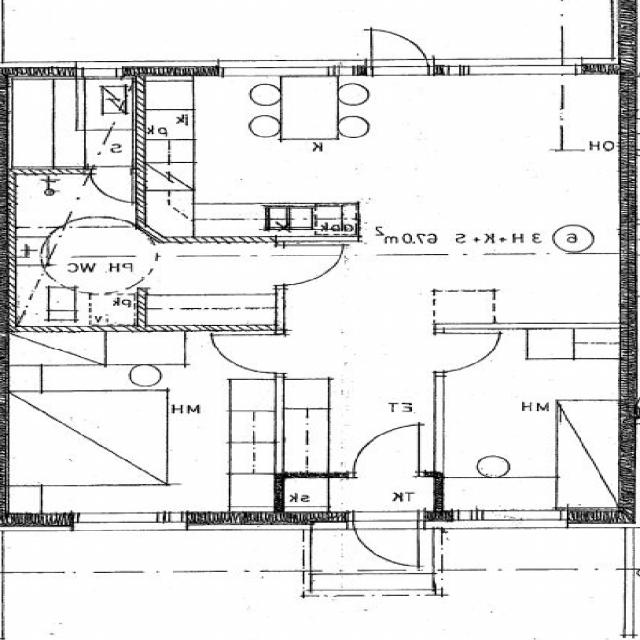door: (355, 511, 418, 574), (372, 20, 429, 76), (355, 428, 420, 477), (275, 245, 341, 285), (220, 334, 285, 373), (435, 334, 498, 372), (92, 166, 134, 203)
